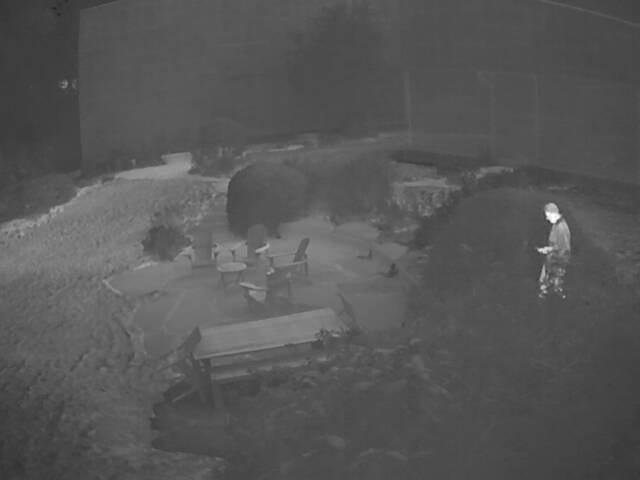person: (538, 200, 571, 304)
